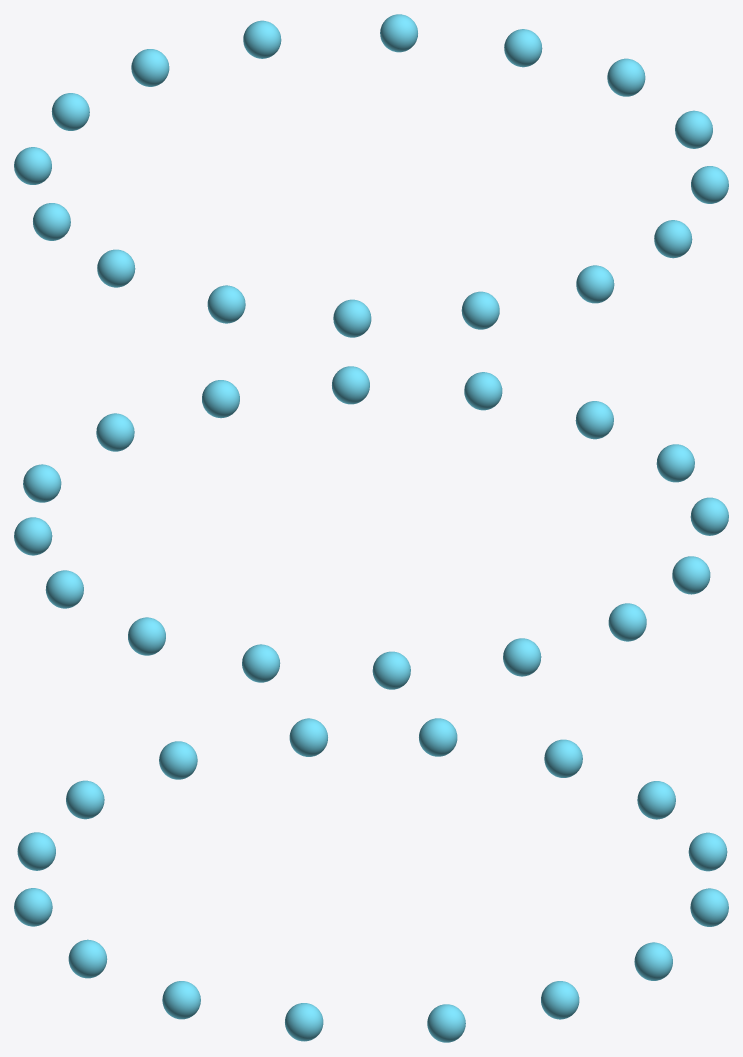
3 renders of one model, top to bottom at view 1: azimuth 30°, elevation 25°; view 2: azimuth 150°, elevation 25°; view 3: azimuth 270°, elevation 25°, orthographic.
Visible parts, largest first — view 1: Sphere049; view 2: Sphere049; view 3: Sphere049.
Part boxes in pixels (x1,y1,x2,y2): Sphere049: (14,14,728,337); Sphere049: (14,366,728,689); Sphere049: (14,718,728,1042).
Bounding box in the file's own units: 152 × 8.22 × 152.
